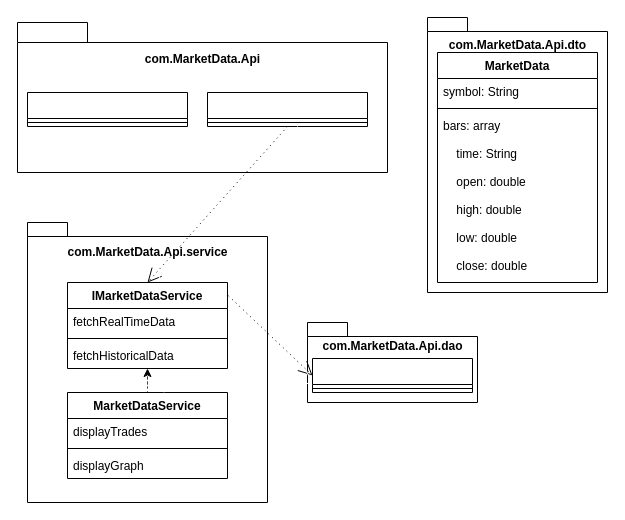
Some shapes in this 625 by 520 pixel diagram are drawn without their labels. Each missing label, with the centre of its shape:
ApiApplication: the point at 107,109
IMarketDataDAO: the point at 392,375
MarketDataController: the point at 287,109
